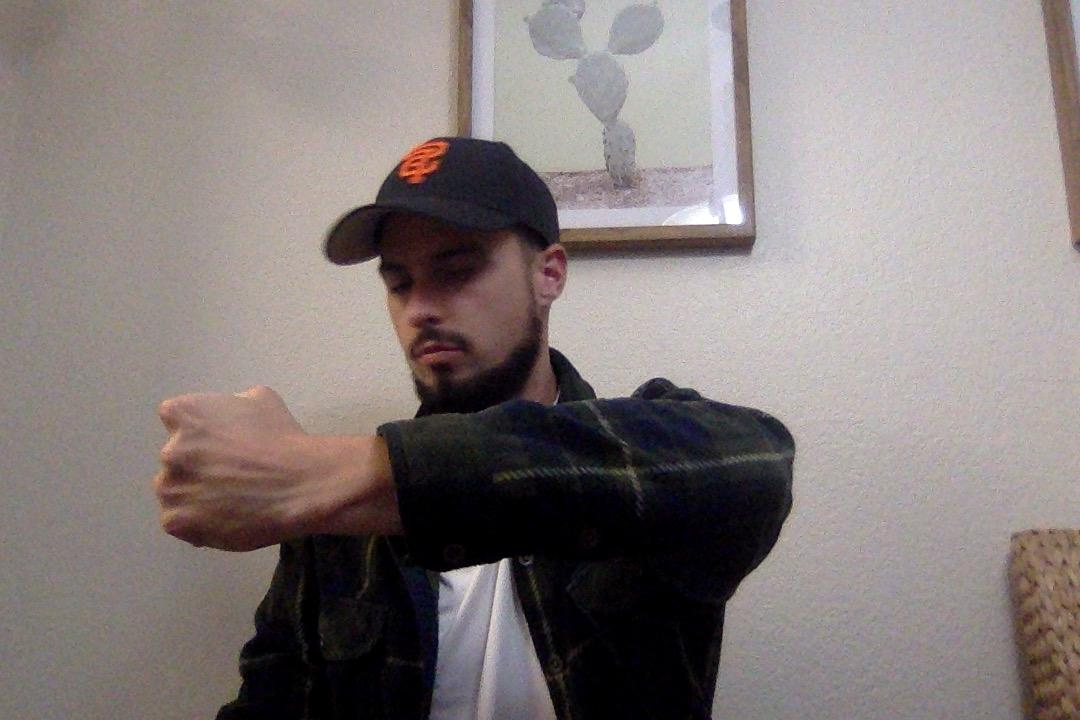Right-Fist: (145, 382, 385, 562)
